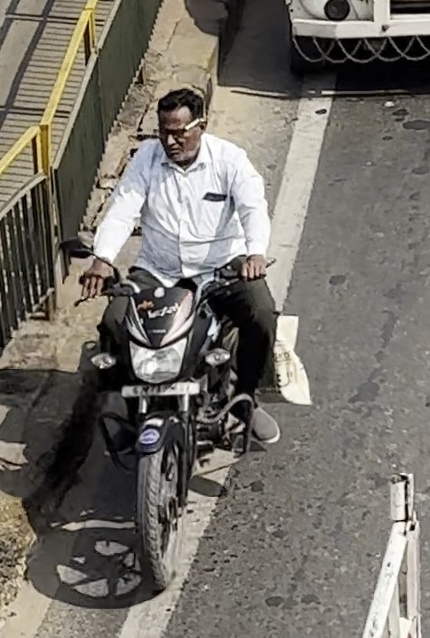BikeWithRider: (50, 85, 306, 594)
NoHelmet: (153, 88, 209, 161)
